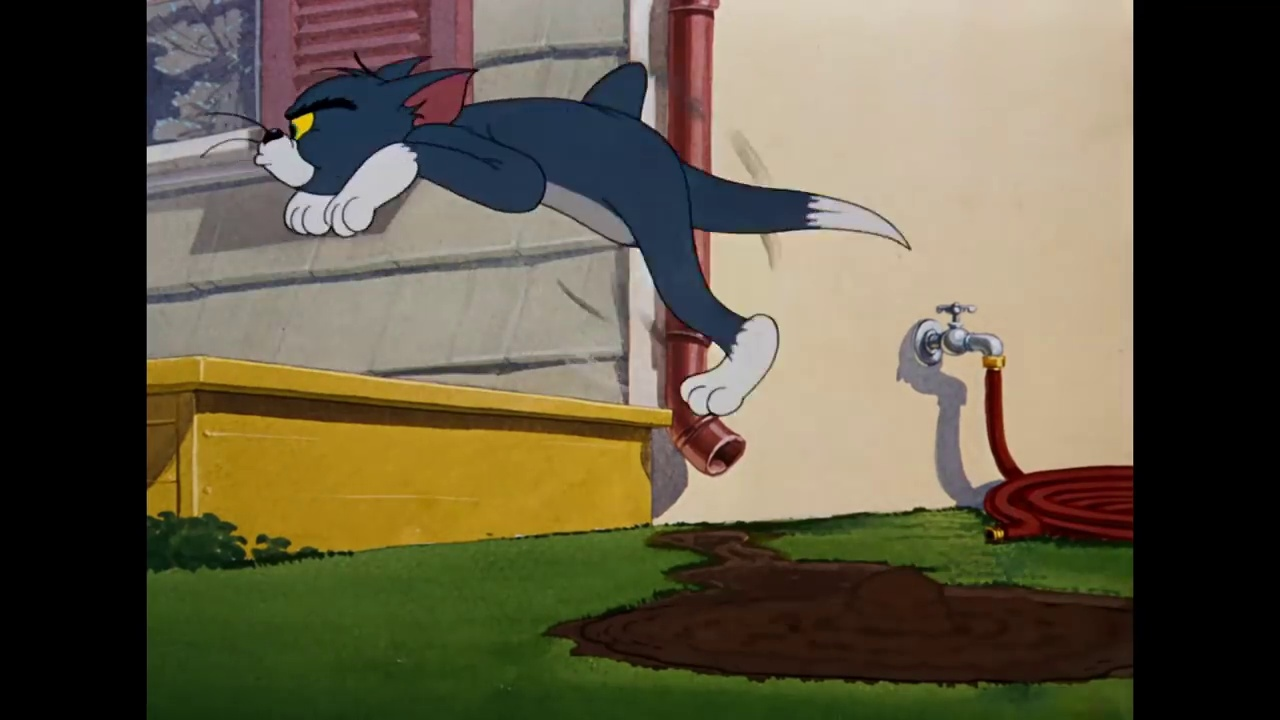tom: (195, 45, 482, 199)
